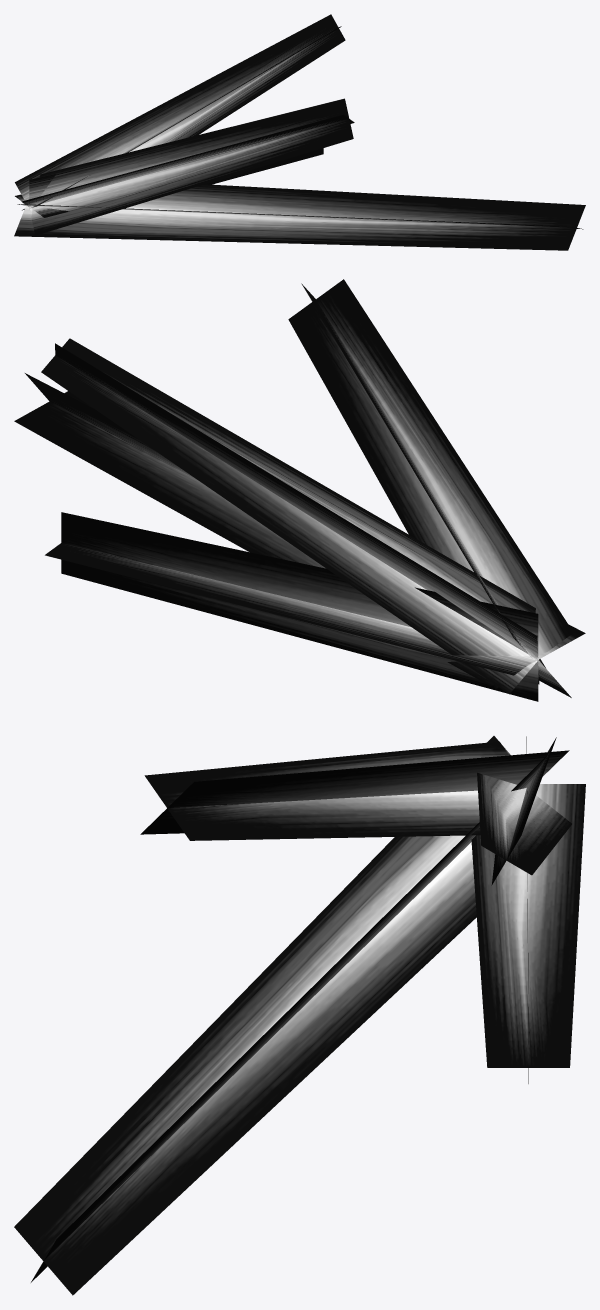
The model's file is baoqi_guangxian.FBX.
3 views of the same model, one above another, from view 1: azimuth 30°, elevation 25°; view 2: azimuth 150°, elevation 25°; view 3: azimuth 270°, elevation 25° (orthographic). The views are drawn at different scales.
Visible parts, largest first — view 1: baoqi_guangxian; view 2: baoqi_guangxian; view 3: baoqi_guangxian.
Boxes of the visible parts, x1,y1,x2,y2 form: baoqi_guangxian: [14, 14, 585, 250]; baoqi_guangxian: [14, 279, 585, 701]; baoqi_guangxian: [14, 736, 585, 1295].
Bounding box in the file's own units: 234 × 83.97 × 128.
